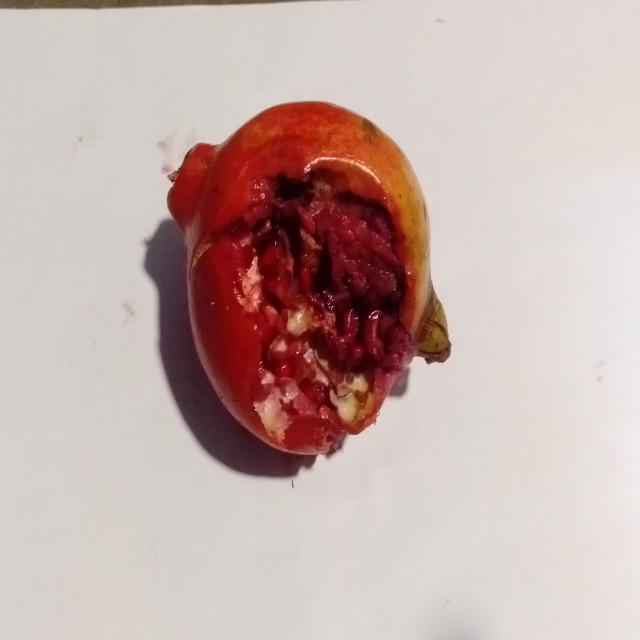Rotten: (163, 99, 454, 464)
